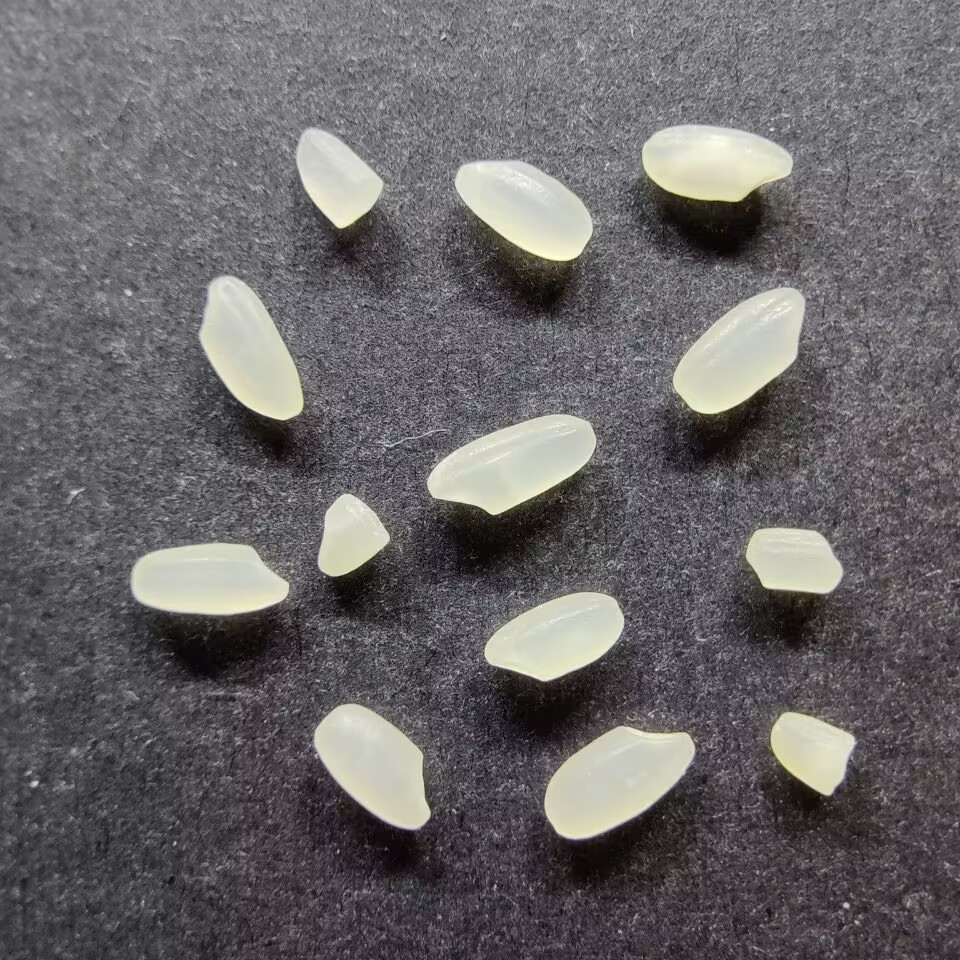broken: (292, 124, 384, 230), (768, 710, 857, 796), (744, 524, 845, 595), (315, 489, 391, 579)
rice: (424, 411, 599, 516), (669, 286, 809, 415), (541, 723, 695, 840), (195, 274, 306, 420), (311, 702, 435, 832), (452, 158, 593, 262), (481, 591, 625, 683), (640, 122, 794, 202), (129, 541, 289, 616)
